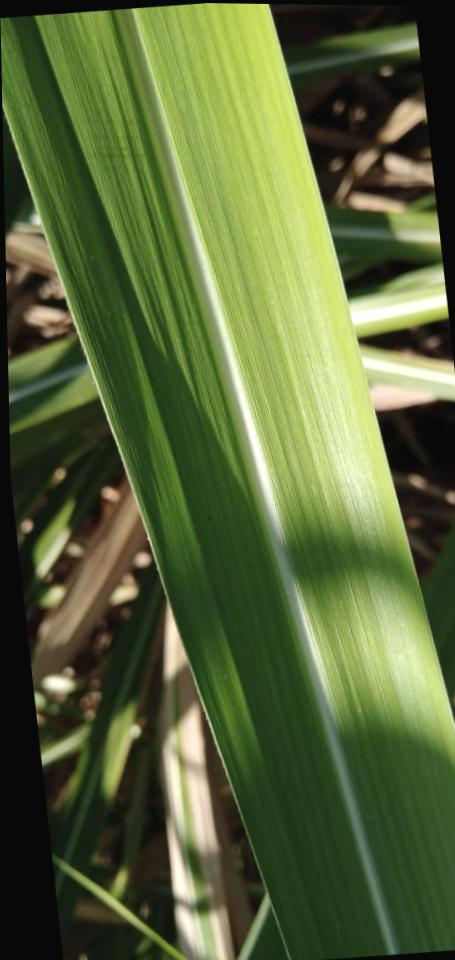Healthy: (0, 3, 455, 960)
